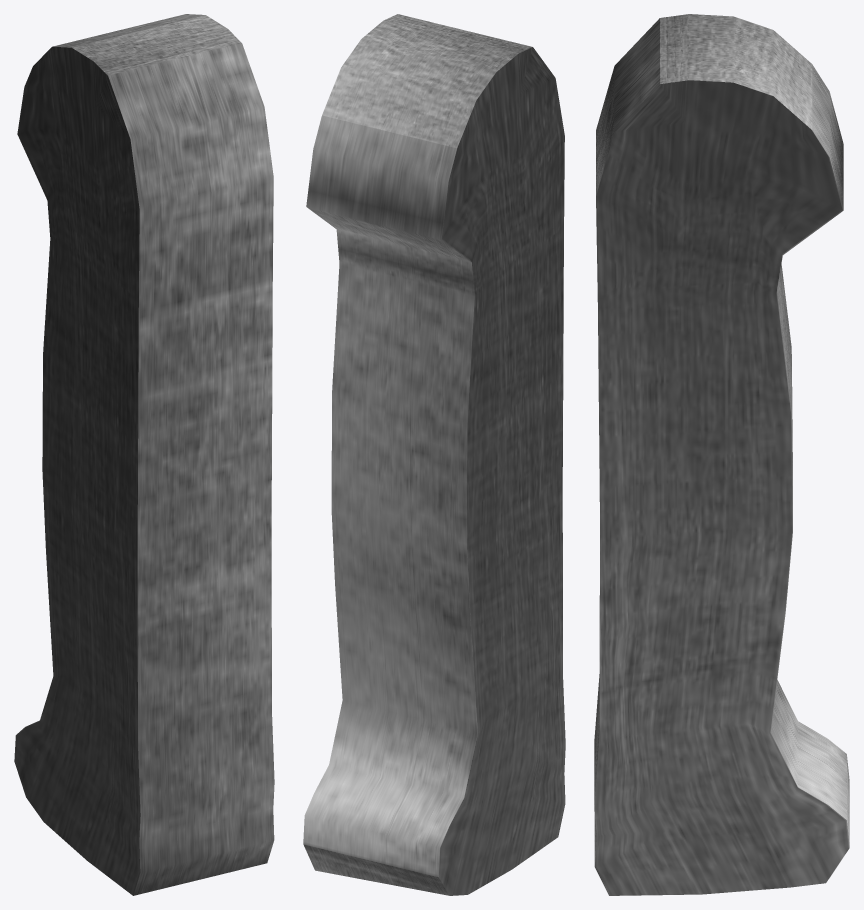
The picture shows the model from 3 angles, left to right: view 1: azimuth 30°, elevation 25°; view 2: azimuth 150°, elevation 25°; view 3: azimuth 270°, elevation 25°; orthographic projection.
Size of the model in its own units: 0.0788 by 0.4523 by 0.1284.
Materials: 1 (1 with a texture image).
